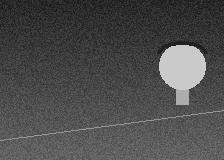no_helmet: (159, 41, 205, 94)
